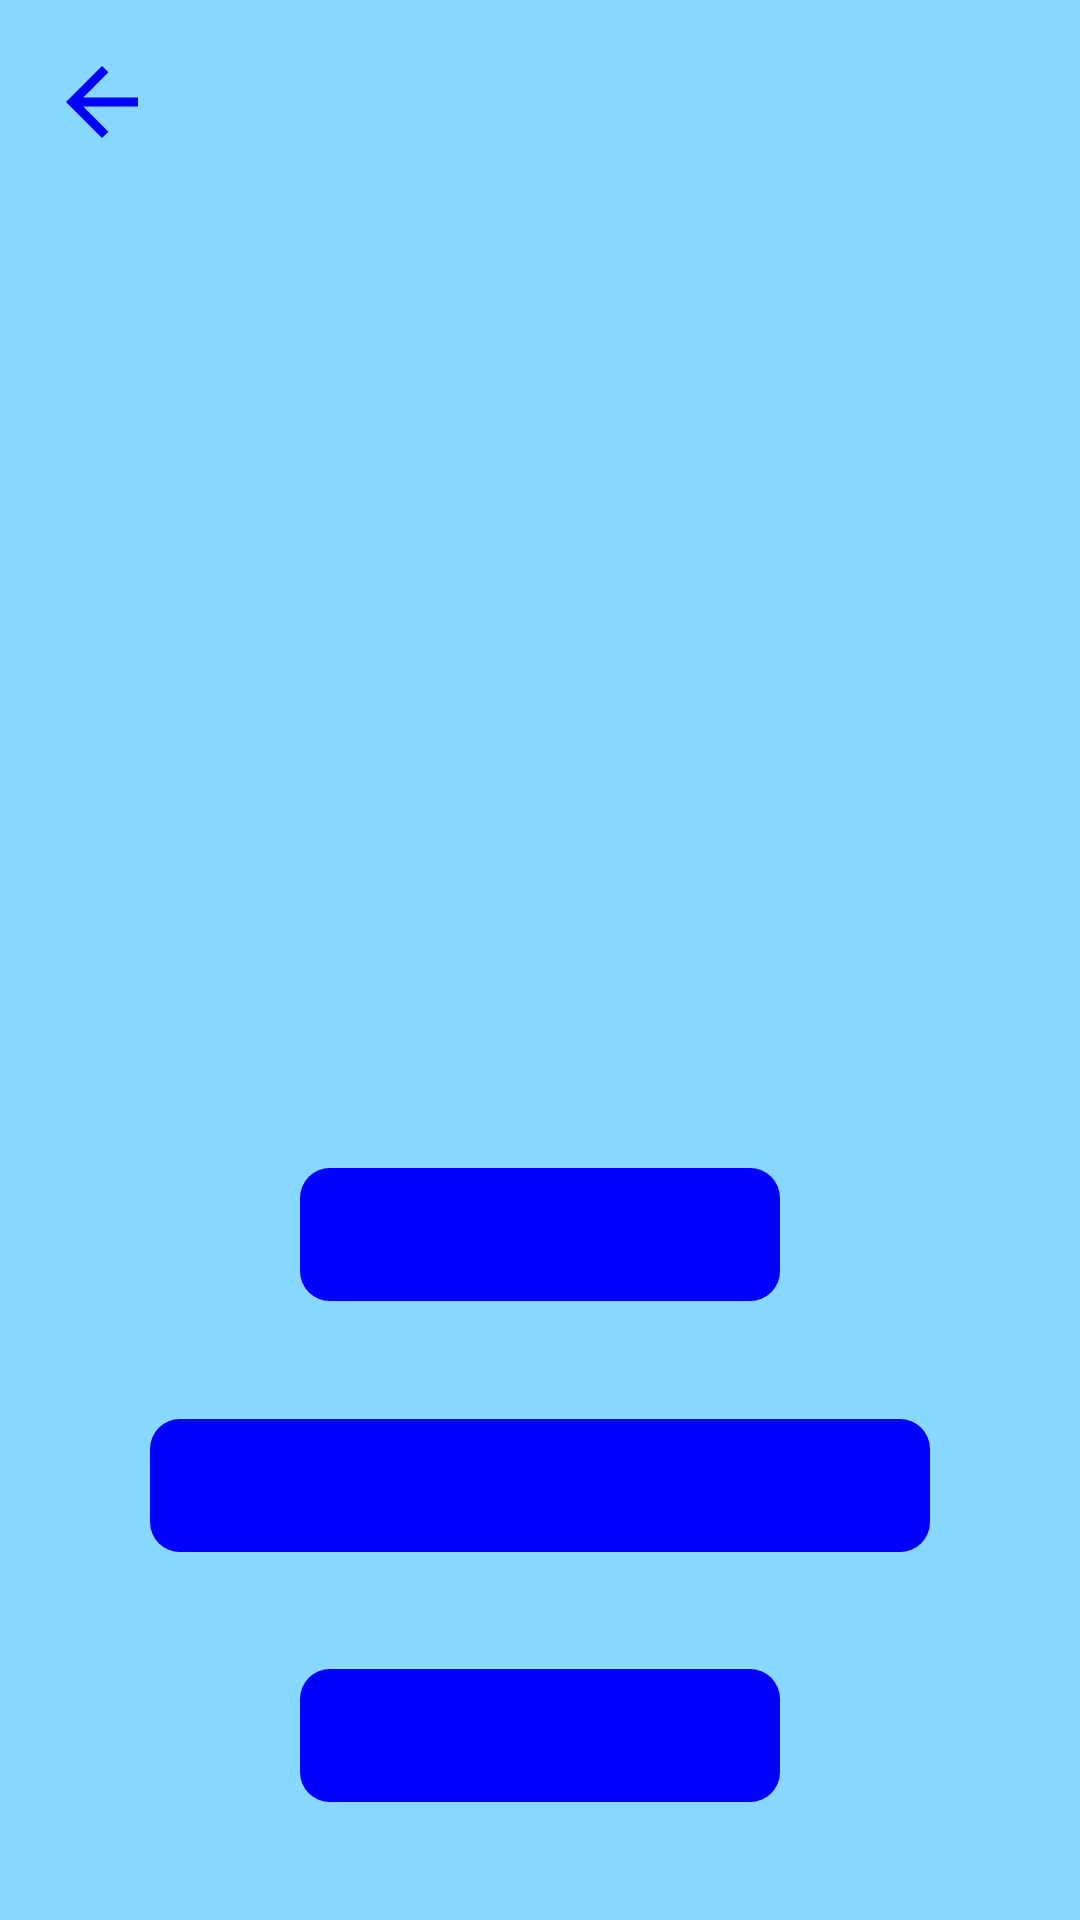

Icons on this 1080px x 1920px Android screen, each with its box as (x1, y1, x2, y2):
back: (66, 66, 138, 138)
